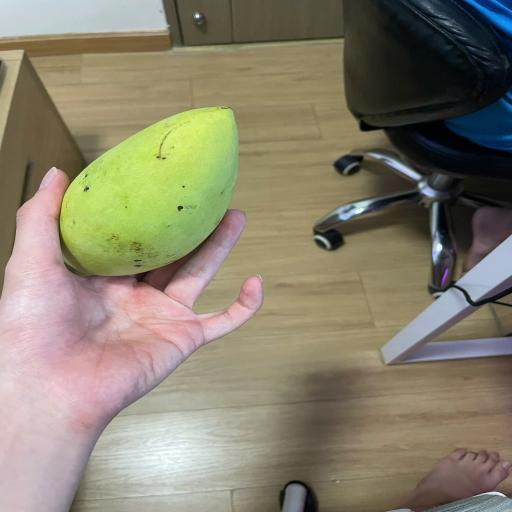xoai: (60, 107, 238, 276)
